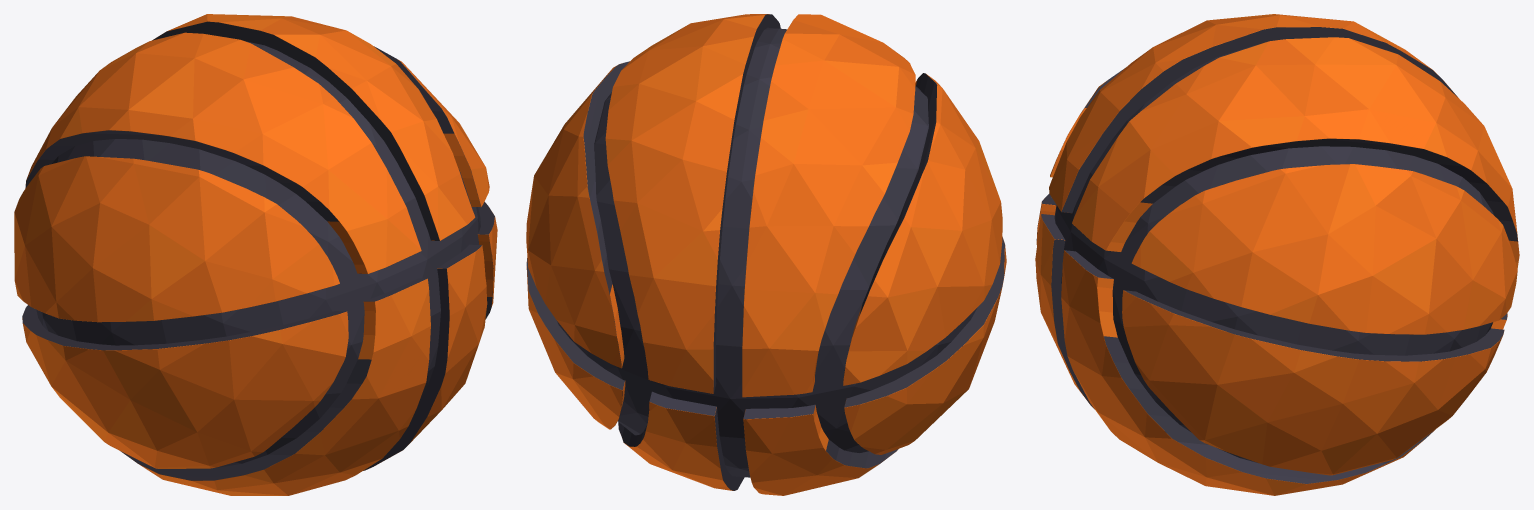
File: Ball_04_Basketball.glb
The picture shows the model from 3 angles, left to right: view 1: azimuth 30°, elevation 25°; view 2: azimuth 150°, elevation 25°; view 3: azimuth 270°, elevation 25°; orthographic projection.
Parts seen in each view (by area): view 1: Ball_04_Basketball.001; view 2: Ball_04_Basketball.001; view 3: Ball_04_Basketball.001.
Part boxes in pixels (bbox=[...]): Ball_04_Basketball.001: bbox=[14, 14, 497, 495]; Ball_04_Basketball.001: bbox=[526, 14, 1006, 495]; Ball_04_Basketball.001: bbox=[1035, 14, 1519, 495].
Bounding box in the file's own units: 1.99 × 1.99 × 1.99.
Materials: 1 (1 with a texture image).
